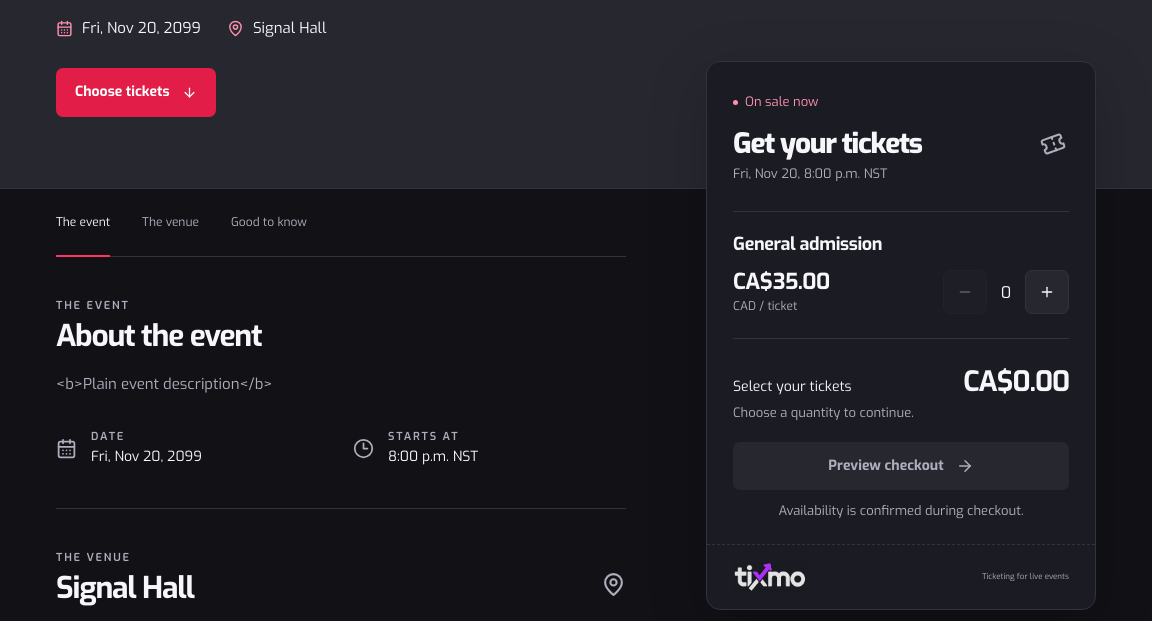
Scenario: customer event on-sale page › keeps the sample preview from opening a real checkout
(page scrolled)
Click the button named "Add one General admission ticket": (1047, 292) [1025, 270, 1069, 314]
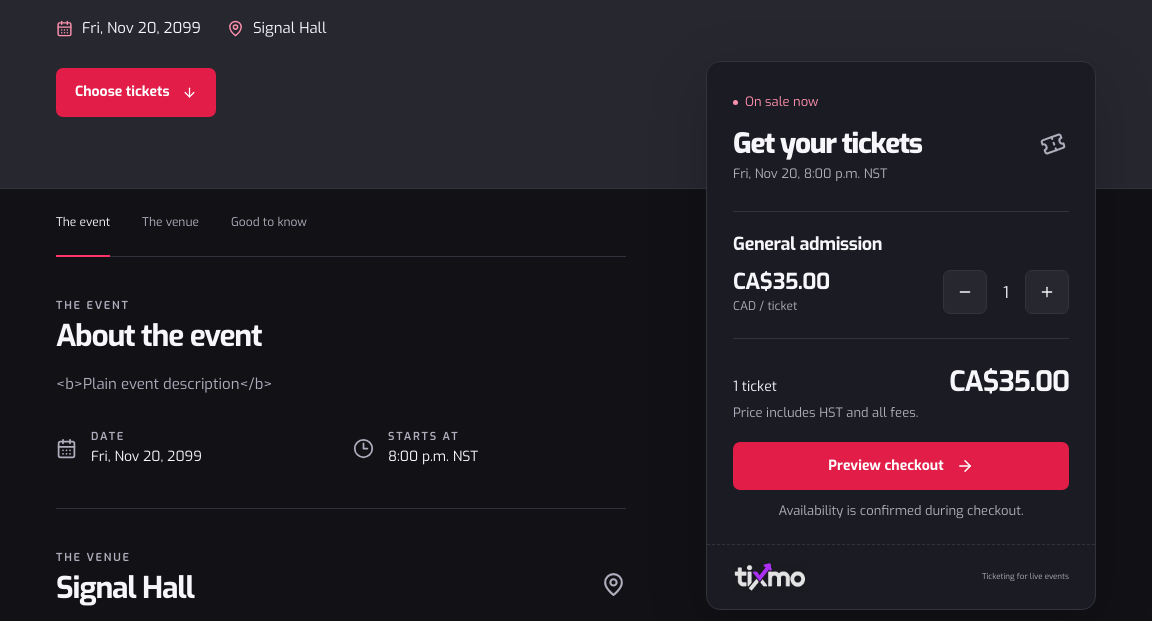
Click the button "Preview checkout": (901, 466) [733, 442, 1069, 490]
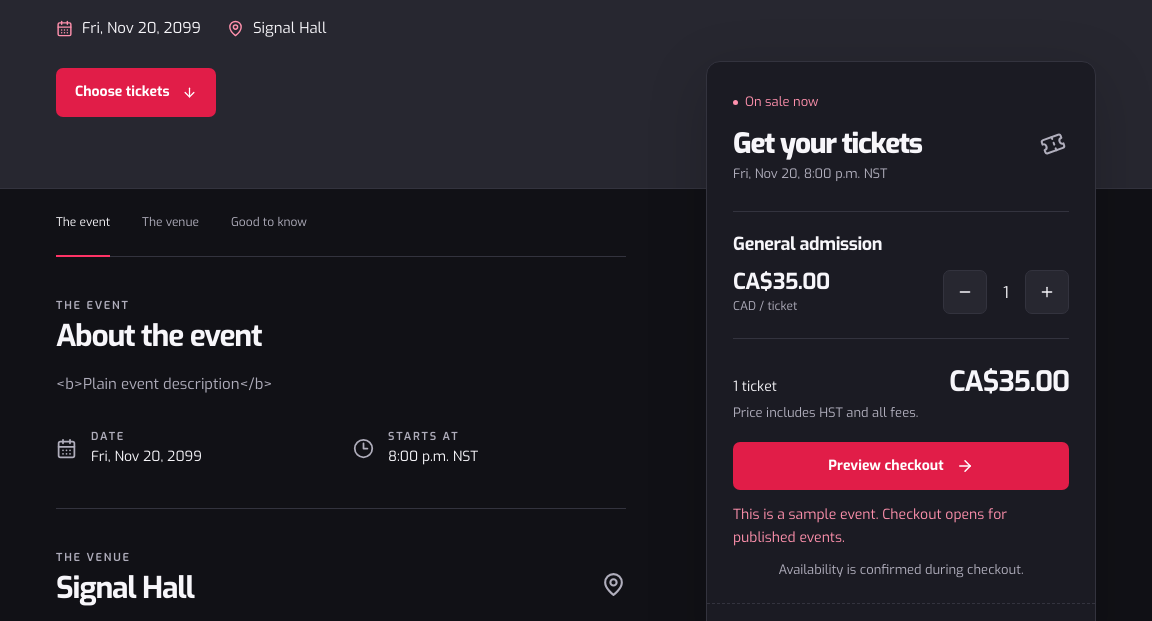
Now the text "This is a sample event. Checkout opens for published events." is shown, box [733, 505, 1007, 547]
